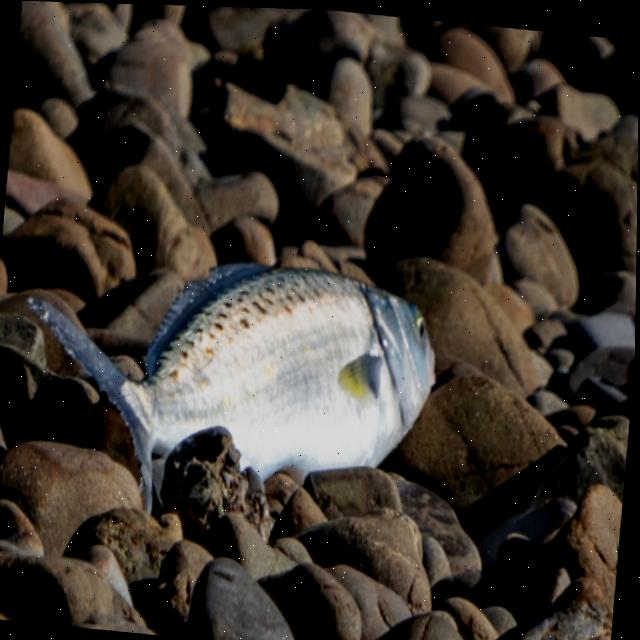Australian Salmon: (6, 207, 452, 549)
